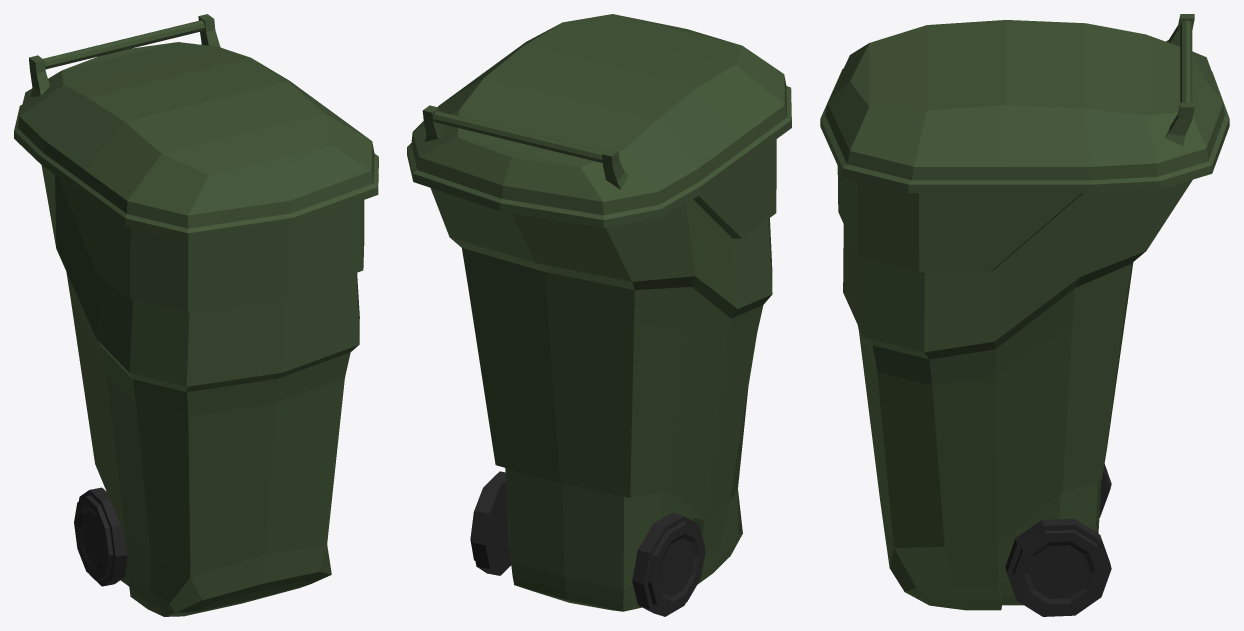
The model's file is trashcan.glb.
The picture shows the model from 3 angles, left to right: view 1: azimuth 30°, elevation 25°; view 2: azimuth 150°, elevation 25°; view 3: azimuth 270°, elevation 25°; orthographic projection. The views are drawn at different scales.
Visible parts, largest first — view 1: trashcan; view 2: trashcan; view 3: trashcan.
Part boxes in pixels (box(x1,y1,x2,y2)): trashcan: box(14, 14, 378, 616); trashcan: box(407, 14, 791, 616); trashcan: box(820, 14, 1229, 616).
Bounding box in the file's own units: 0.4404 × 0.8 × 0.5757.
